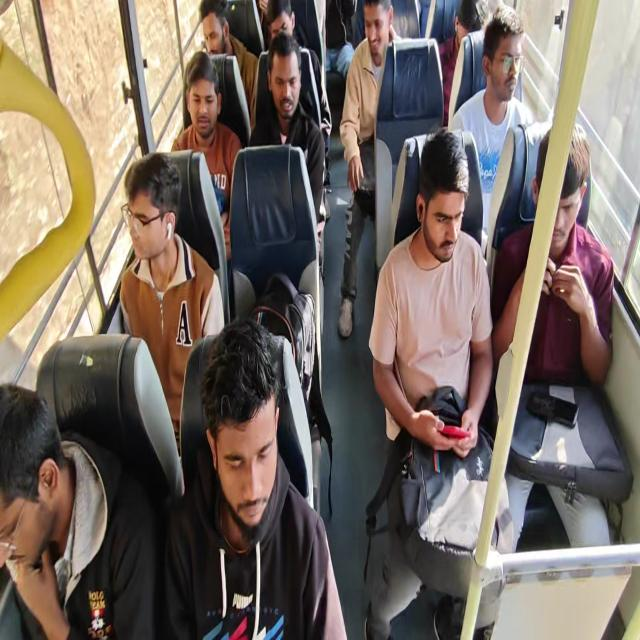person: (364, 127, 514, 638), (160, 316, 348, 638), (491, 122, 615, 552), (0, 381, 160, 639), (114, 152, 225, 457), (337, 0, 401, 338), (450, 4, 537, 250), (248, 32, 326, 266), (170, 50, 242, 261), (264, 0, 332, 185), (198, 0, 258, 131), (437, 0, 480, 125), (324, 0, 356, 78)
